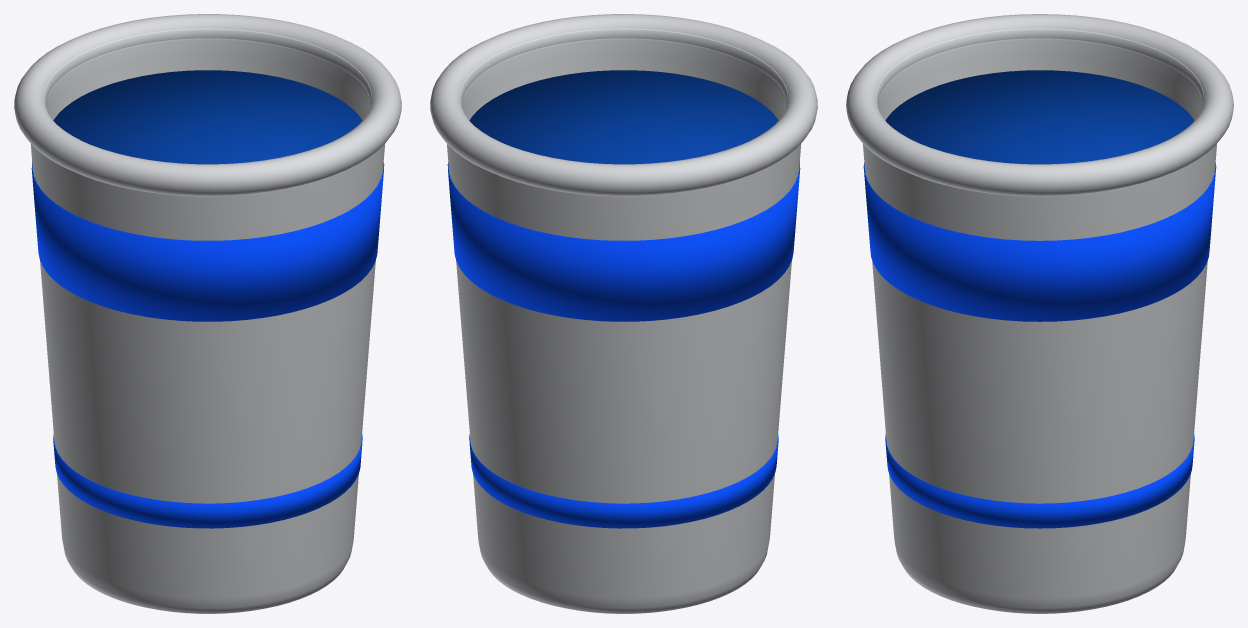
Rendered from 26-nodeworks-coffee-cup.glb.
3 views of the same model, side by side, from view 1: azimuth 30°, elevation 25°; view 2: azimuth 150°, elevation 25°; view 3: azimuth 270°, elevation 25° (orthographic).
Parts seen in each view (by area): view 1: tapered_white_cup_shell, wide_upper_cobalt_band, rolled_white_rim, recessed_blue_top_surface, thin_lower_cobalt_band; view 2: tapered_white_cup_shell, wide_upper_cobalt_band, rolled_white_rim, recessed_blue_top_surface, thin_lower_cobalt_band; view 3: tapered_white_cup_shell, wide_upper_cobalt_band, rolled_white_rim, recessed_blue_top_surface, thin_lower_cobalt_band.
Boxes of the visible parts, <box> form: tapered_white_cup_shell: <box>30,28,384,613</box>; wide_upper_cobalt_band: <box>31,162,384,321</box>; rolled_white_rim: <box>14,14,401,196</box>; recessed_blue_top_surface: <box>53,70,362,164</box>; thin_lower_cobalt_band: <box>53,434,362,528</box>; tapered_white_cup_shell: <box>447,28,801,613</box>; wide_upper_cobalt_band: <box>447,162,800,321</box>; rolled_white_rim: <box>430,14,817,196</box>; recessed_blue_top_surface: <box>469,70,778,164</box>; thin_lower_cobalt_band: <box>469,434,778,528</box>; tapered_white_cup_shell: <box>863,28,1216,613</box>; wide_upper_cobalt_band: <box>863,163,1216,321</box>; rolled_white_rim: <box>846,14,1233,196</box>; recessed_blue_top_surface: <box>885,70,1194,164</box>; thin_lower_cobalt_band: <box>885,434,1194,528</box>.
Bounding box in the file's own units: 0.097 × 0.129 × 0.097.
